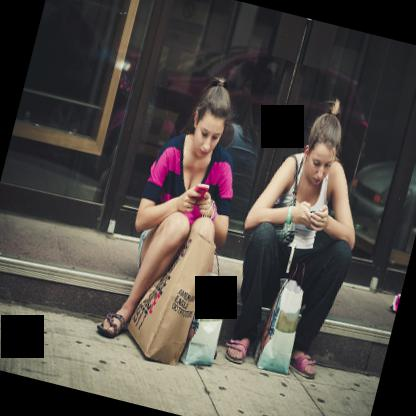handbag: (125, 234, 214, 365), (252, 263, 304, 374), (181, 274, 228, 368), (272, 157, 296, 244), (142, 107, 180, 145)
